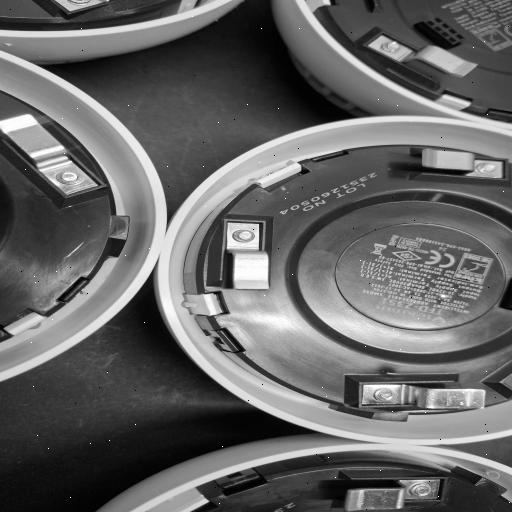yaysiz: (340, 36, 491, 97), (212, 216, 286, 302), (344, 376, 502, 415), (380, 141, 506, 185)
